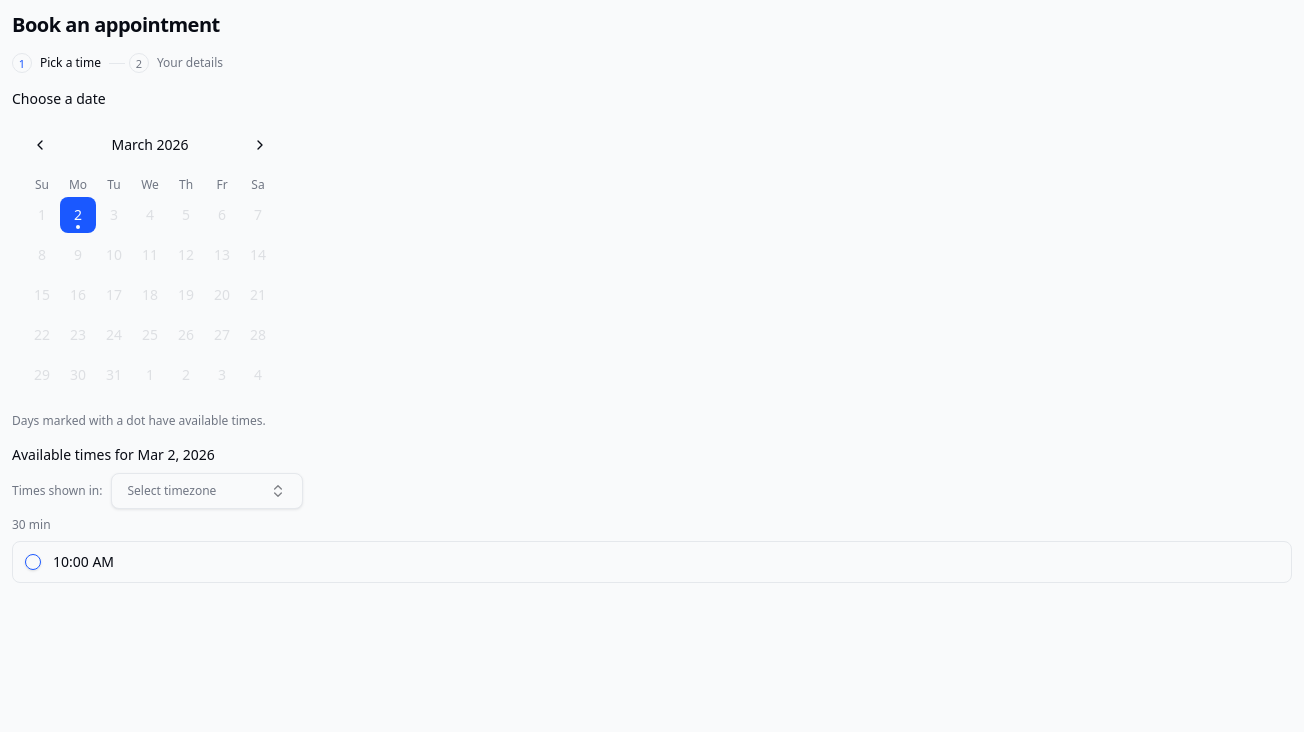
PublicBookingFlow › renders bookable slots, and submitting books and confirms
Click the radio button at coordinates (33, 562), box [25,554,41,570]
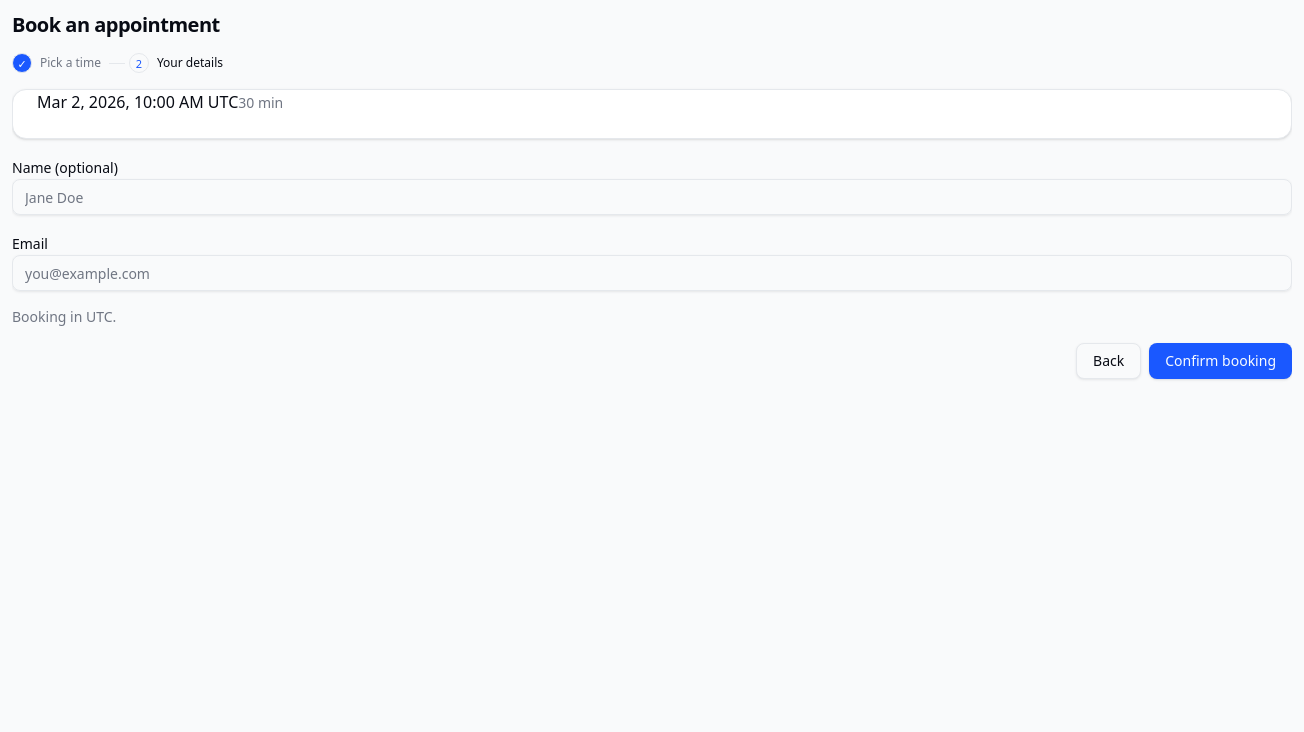
Type "attendee@example.com" into the field with test id "attendee-email-input" at coordinates (652, 273), box [12,255,1292,291]
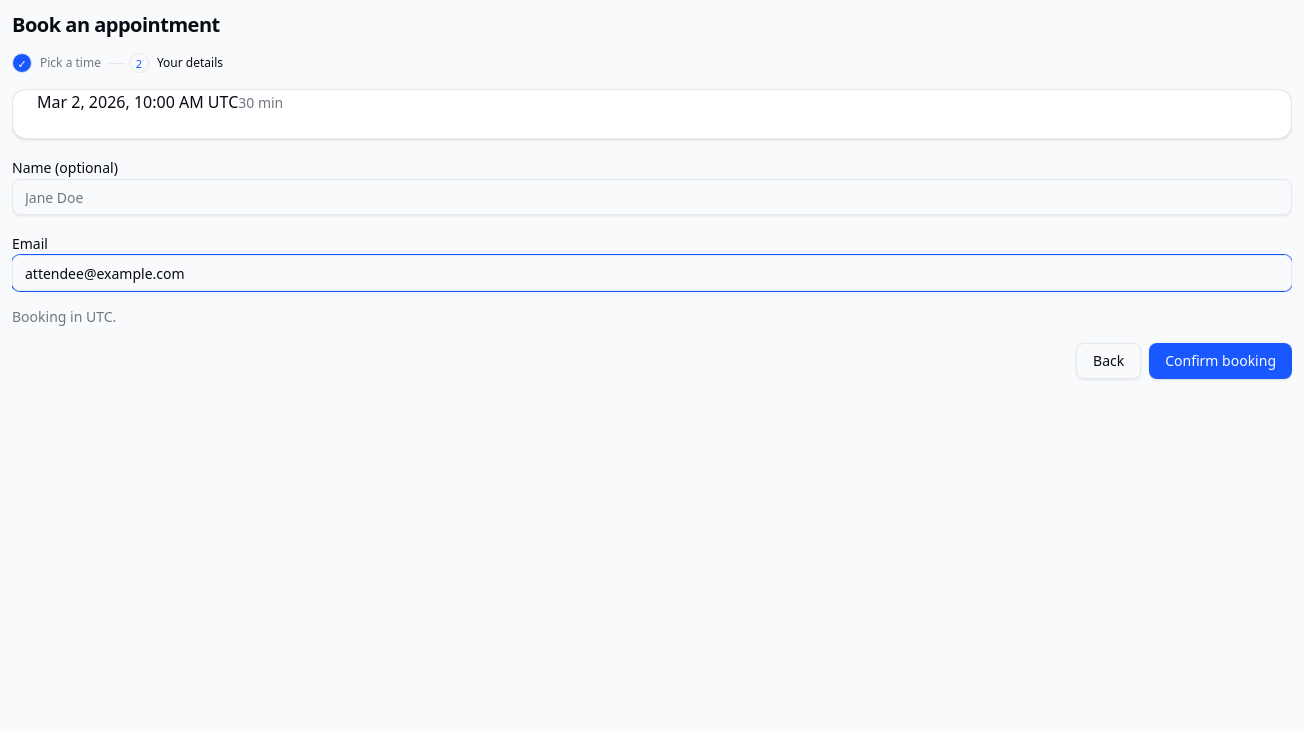
Click the button with test id "attendee-form-submit" at coordinates (1221, 361), box [1149,343,1292,379]
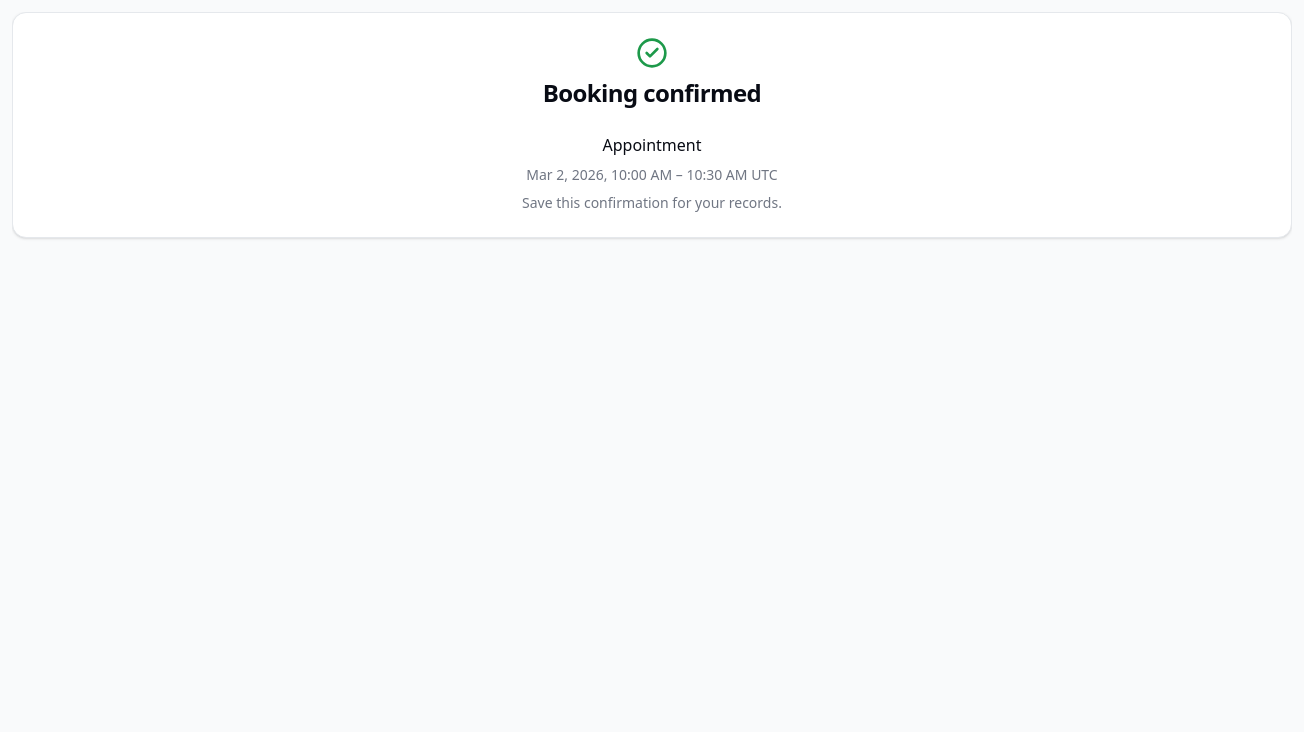
Result: the element with test id "booking-confirmation" is shown at [12,12,1292,238]
